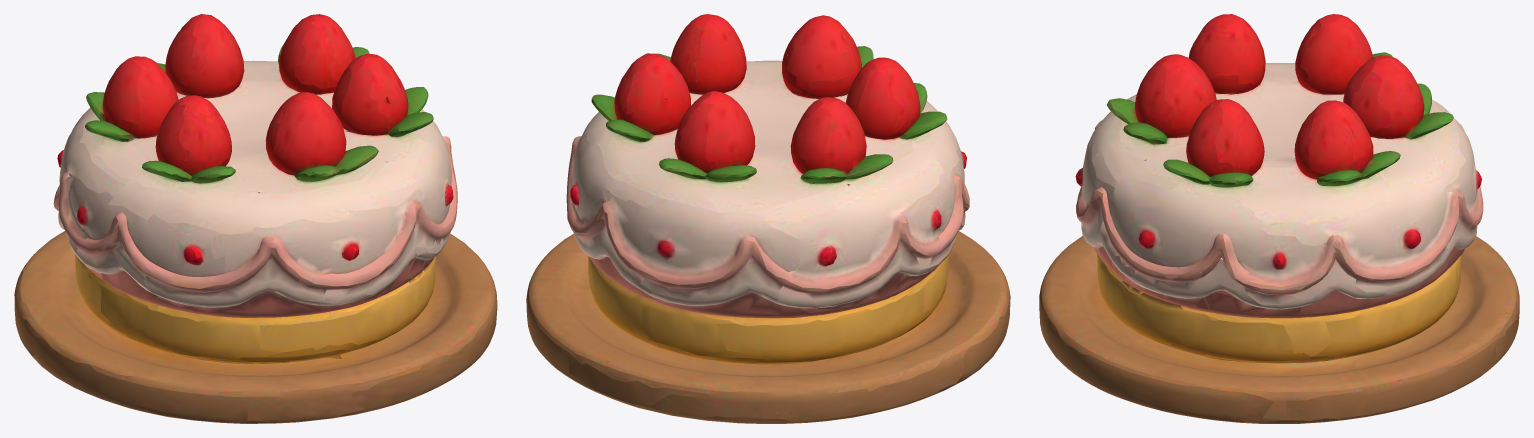
Rendered from wish_cake.glb.
3 views of the same model, side by side, from view 1: azimuth 30°, elevation 25°; view 2: azimuth 150°, elevation 25°; view 3: azimuth 270°, elevation 25° (orthographic).
Visible parts, largest first — view 1: world; view 2: world; view 3: world.
Part boxes in pixels (box(x1,y1,x2,y2)): world: box(14, 14, 497, 423); world: box(526, 14, 1010, 423); world: box(1039, 14, 1519, 423).
Size of the model in its own units: 0.2 by 0.1284 by 0.1999.
Materials: 1 (1 with a texture image).
